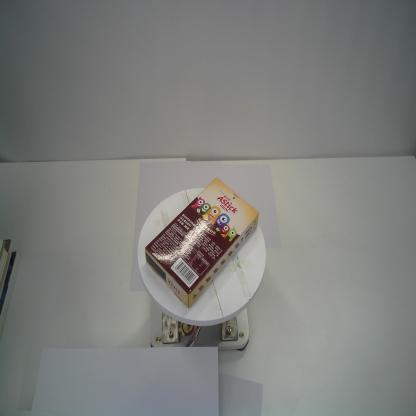Dessert: (145, 176, 260, 310)
